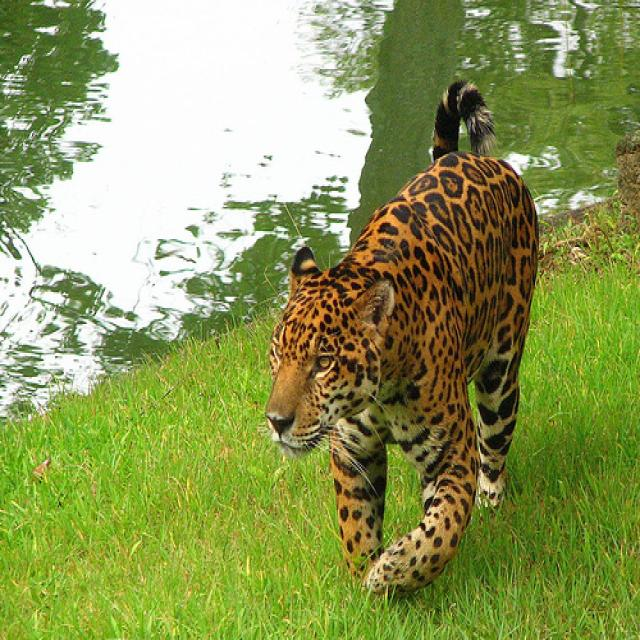Leopard: (264, 69, 548, 608)
